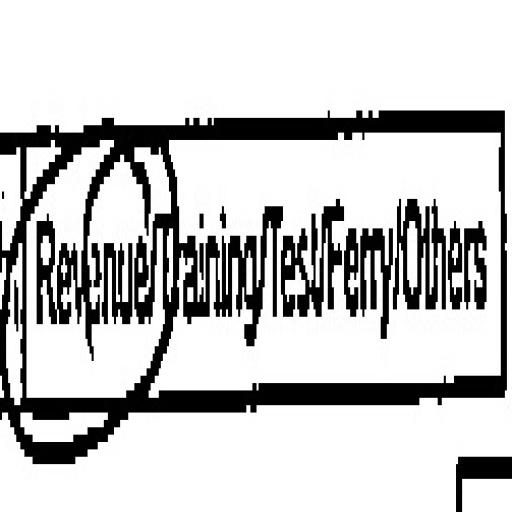check: (8, 60, 148, 485)
